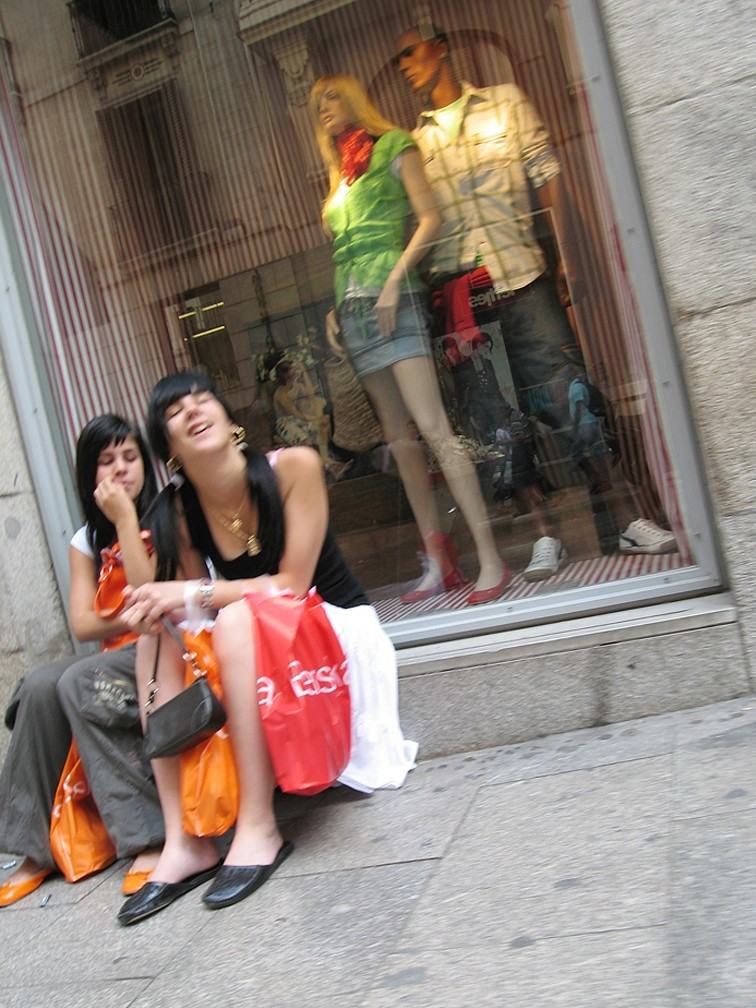face_no_mask: (143, 375, 236, 468), (76, 417, 149, 498)
